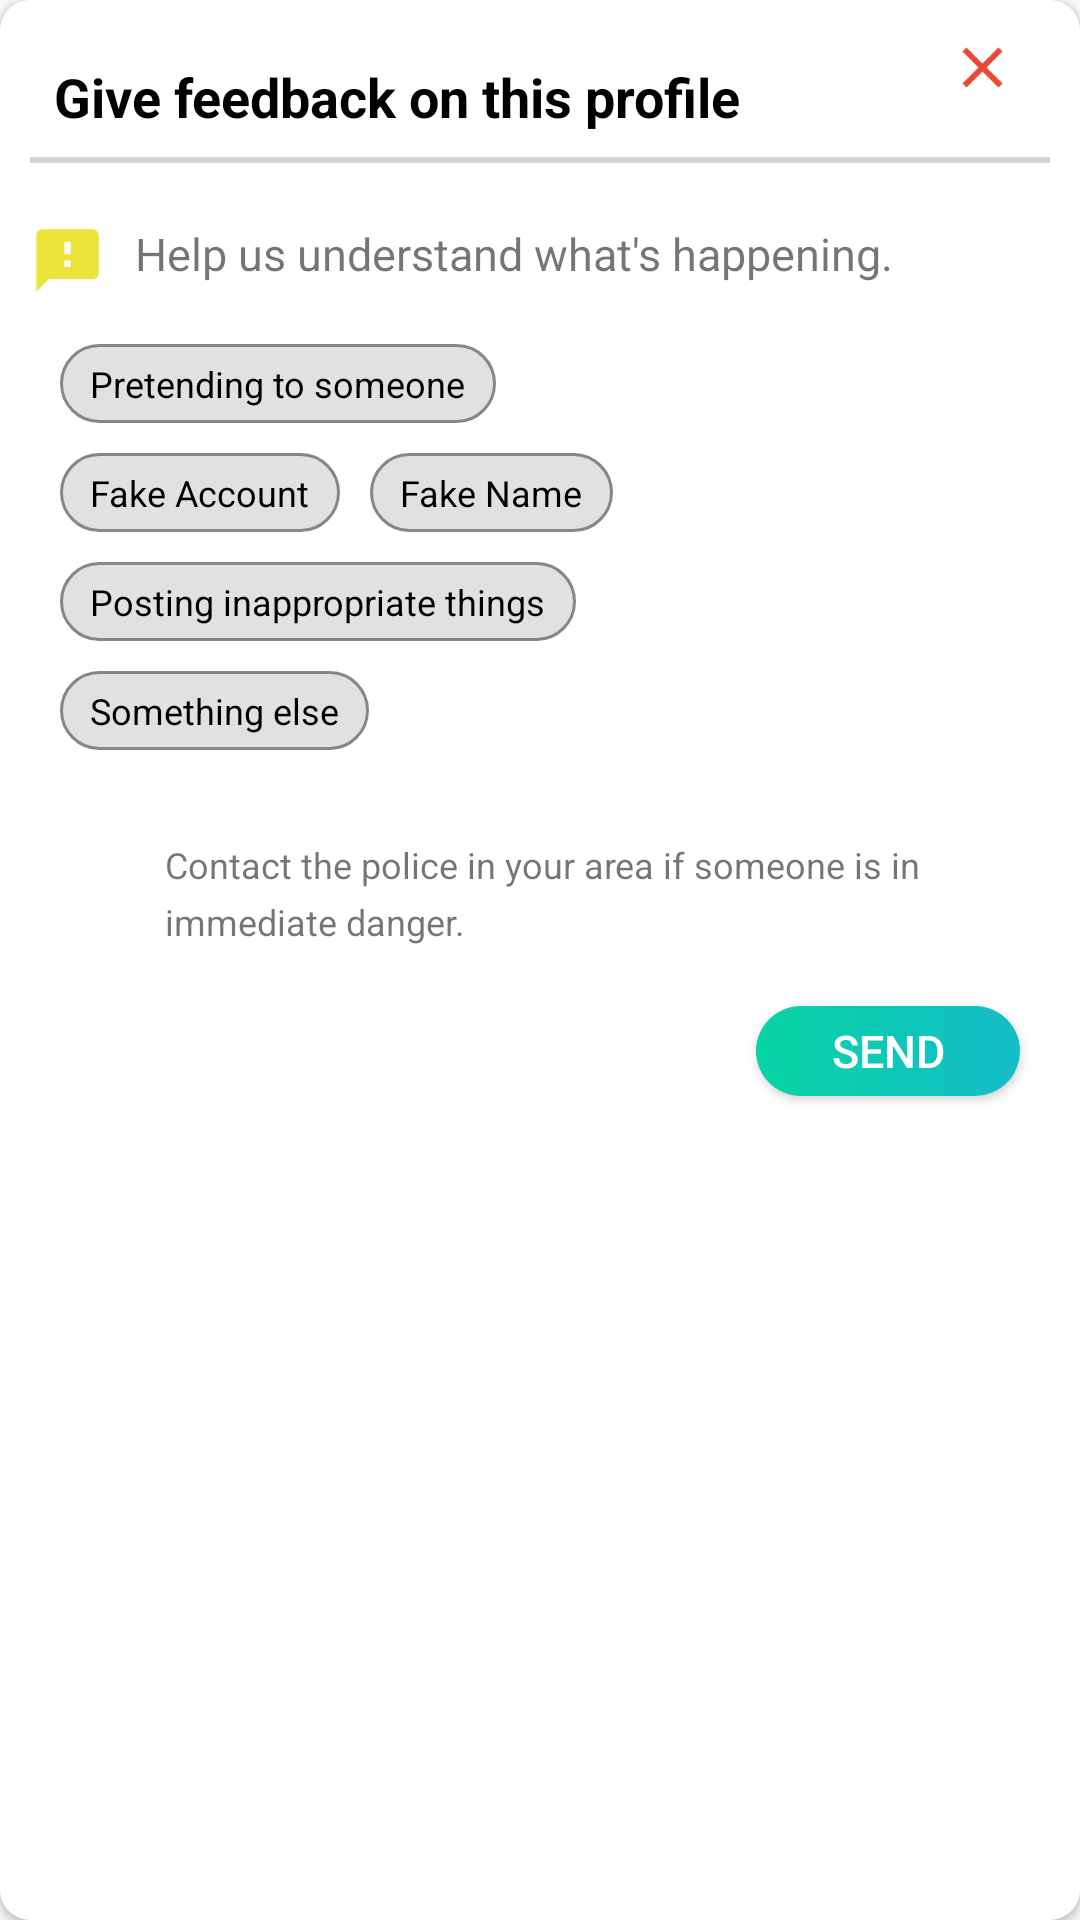

Where icons sit on this 1080w x 1920h app screen, as detection(x1, y1, x2, y2):
redcross: detection(962, 47, 1003, 88)
